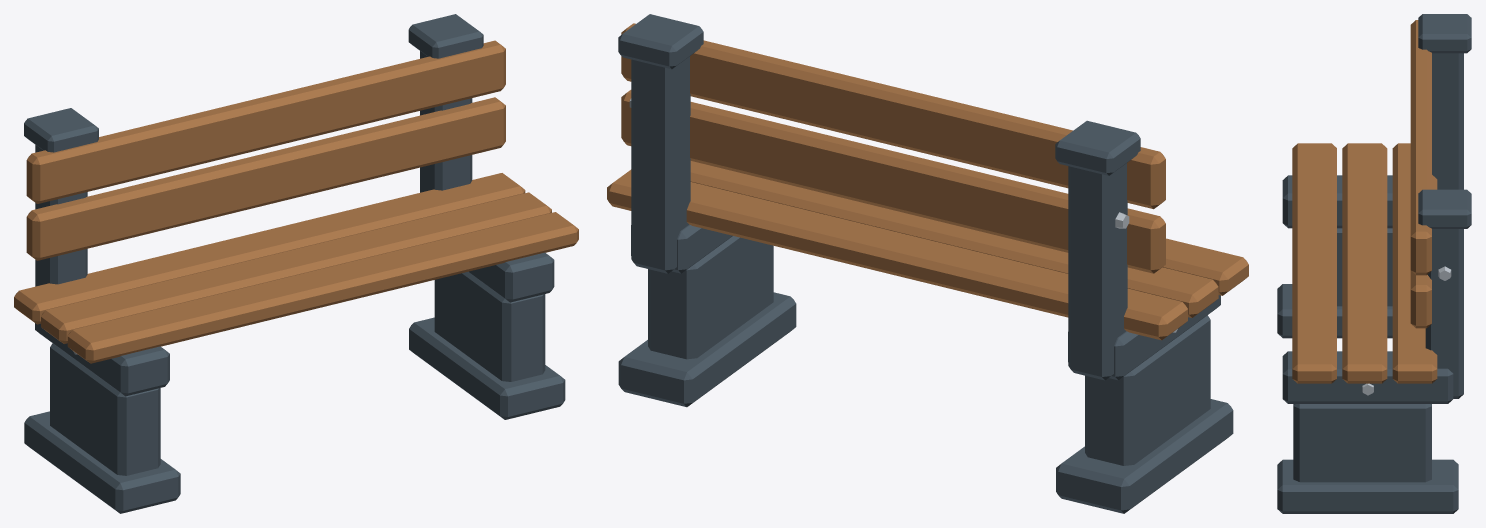
Rendered from Court_Bench.fbx.
3 renders of one model, left to right at view 1: azimuth 30°, elevation 25°; view 2: azimuth 150°, elevation 25°; view 3: azimuth 270°, elevation 25°, orthographic. The views are drawn at different scales.
Parts seen in each view (by area): view 1: Wood, Frame; view 2: Wood, Frame; view 3: Frame, Wood, SteelLight.
Part boxes in pixels (box(x1,y1,x2,y2)): Wood: box(14, 40, 578, 363); Frame: box(24, 14, 565, 513); Wood: box(607, 23, 1248, 340); Frame: box(618, 14, 1233, 513); Frame: box(1277, 14, 1471, 513); Wood: box(1292, 20, 1437, 383); SteelLight: box(1362, 266, 1451, 395).
Bounding box in the file's own units: 5 × 3.12 × 1.82.
